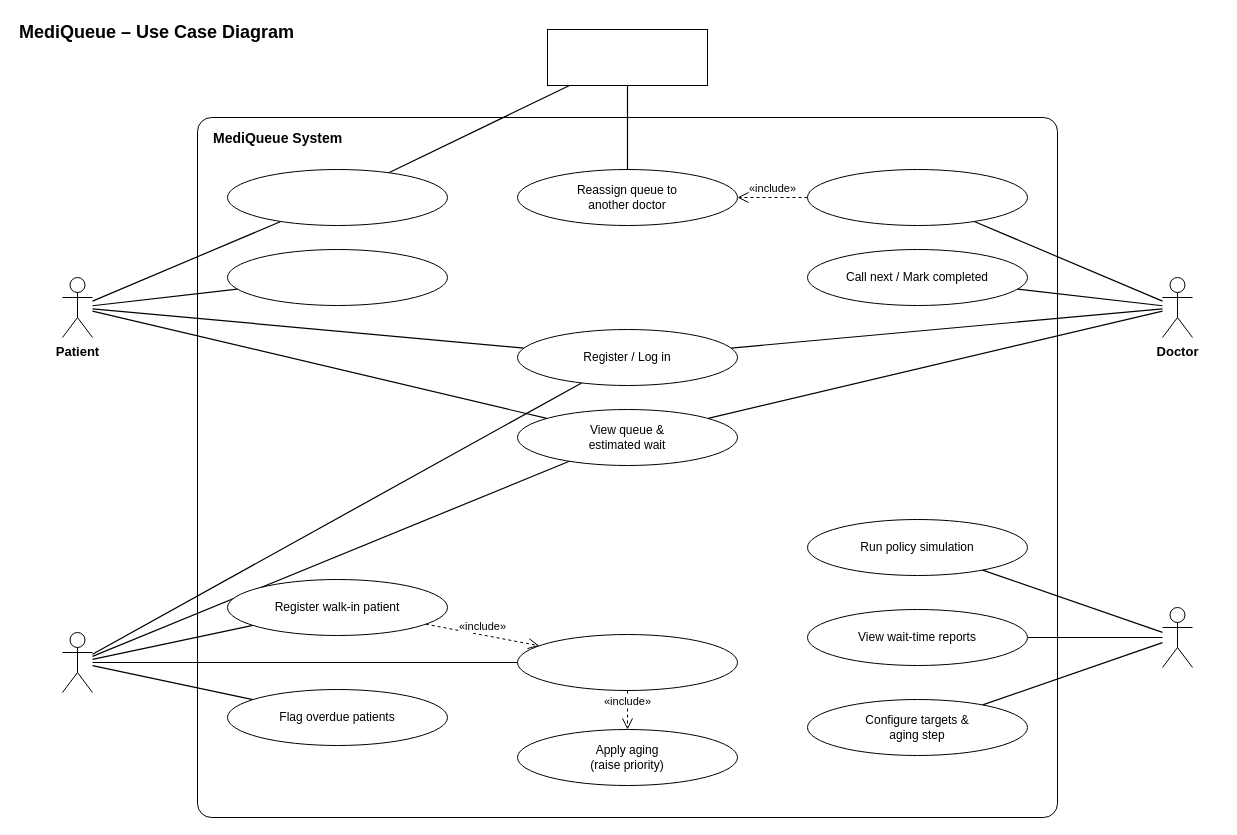
Some shapes in this 1237 by 835 pixel diagram are drawn without their labels. Each missing label, with the box of its shape:
Administrator: (1162, 606, 1192, 668)
Assign triage category (Check-in): (516, 634, 738, 690)
Book appointment slot: (226, 248, 448, 306)
Mark doctor unavailable: (806, 168, 1028, 226)
Receive notification (3 patients ahead): (226, 168, 448, 226)
Receptionist: (62, 632, 92, 692)
«system» Notification Service: (546, 28, 708, 86)
